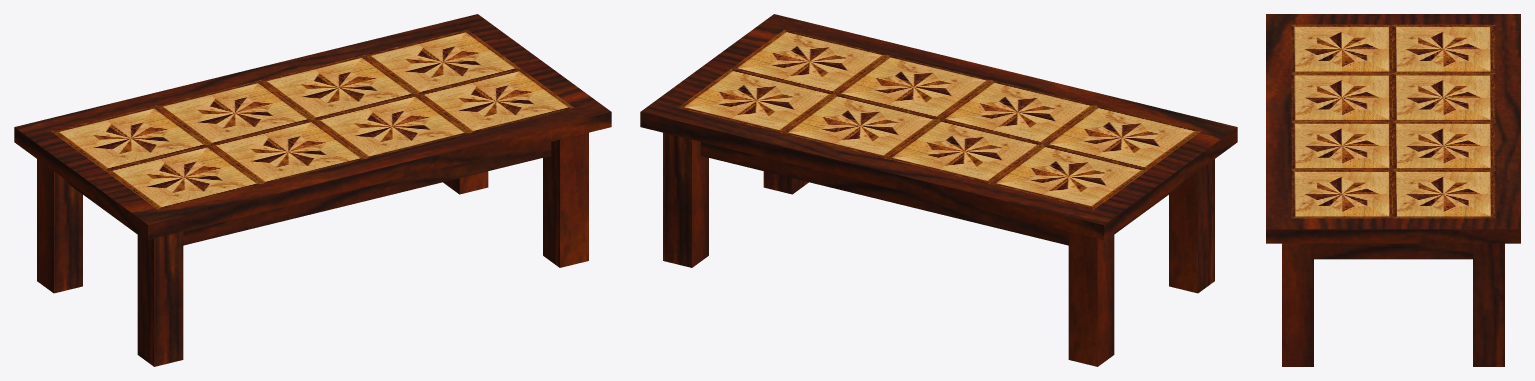
Rendered from CoffeeTableWithInlays02.fbx.
The picture shows the model from 3 angles, left to right: view 1: azimuth 30°, elevation 25°; view 2: azimuth 150°, elevation 25°; view 3: azimuth 270°, elevation 25°; orthographic projection. The views are drawn at different scales.
Visible parts, largest first — view 1: default; view 2: default; view 3: default.
Boxes of the visible parts, <box> form: default: <box>14,14,611,366</box>; default: <box>640,14,1237,366</box>; default: <box>1266,14,1520,366</box>.
Bounding box in the file's own units: 376 × 118 × 188.
